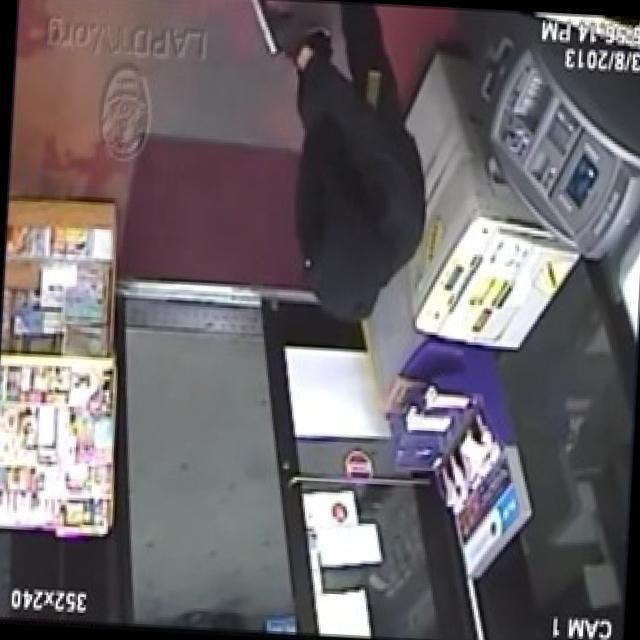Gun: (243, 4, 294, 58)
